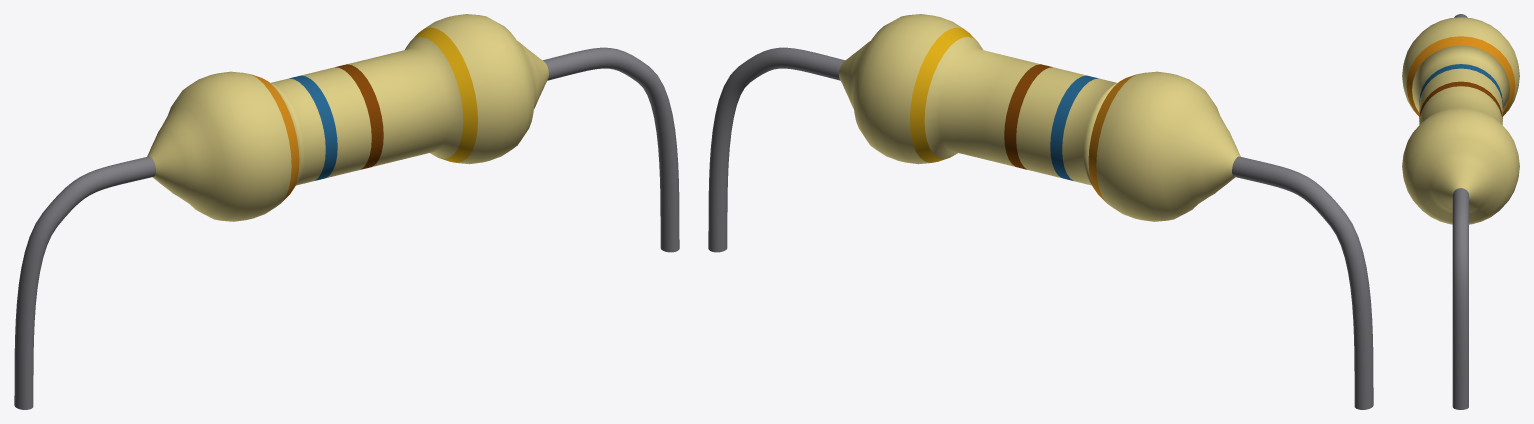
Rendered from Prefab_Resistor360.fbx.
3 renders of one model, left to right at view 1: azimuth 30°, elevation 25°; view 2: azimuth 150°, elevation 25°; view 3: azimuth 270°, elevation 25°, orthographic. The views are drawn at different scales.
Visible parts, largest first — view 1: Resistor.005, Patas.004, Tolerancia.005, 2Cifra.005, 3Cifra.005, 1Cifra.005; view 2: Resistor.005, Patas.004, Tolerancia.005, 3Cifra.005, 2Cifra.005, 1Cifra.005; view 3: Resistor.005, Patas.004, 1Cifra.005, 3Cifra.005, 2Cifra.005.
Boxes of the visible parts, <box> form: Resistor.005: <box>147,14,548,221</box>; Patas.004: <box>14,47,679,409</box>; Tolerancia.005: <box>411,27,477,162</box>; 2Cifra.005: <box>289,75,337,180</box>; 3Cifra.005: <box>335,64,383,169</box>; 1Cifra.005: <box>251,74,299,201</box>; Resistor.005: <box>839,14,1240,221</box>; Patas.004: <box>708,47,1373,409</box>; Tolerancia.005: <box>910,27,976,162</box>; 3Cifra.005: <box>1004,64,1052,169</box>; 2Cifra.005: <box>1050,75,1098,180</box>; 1Cifra.005: <box>1088,74,1136,201</box>; Resistor.005: <box>1402,17,1519,224</box>; Patas.004: <box>1452,14,1468,409</box>; 1Cifra.005: <box>1406,36,1515,116</box>; 3Cifra.005: <box>1419,81,1502,121</box>; 2Cifra.005: <box>1419,64,1502,104</box>.
Bounding box in the file's own units: 27.27 × 55.36 × 139.
